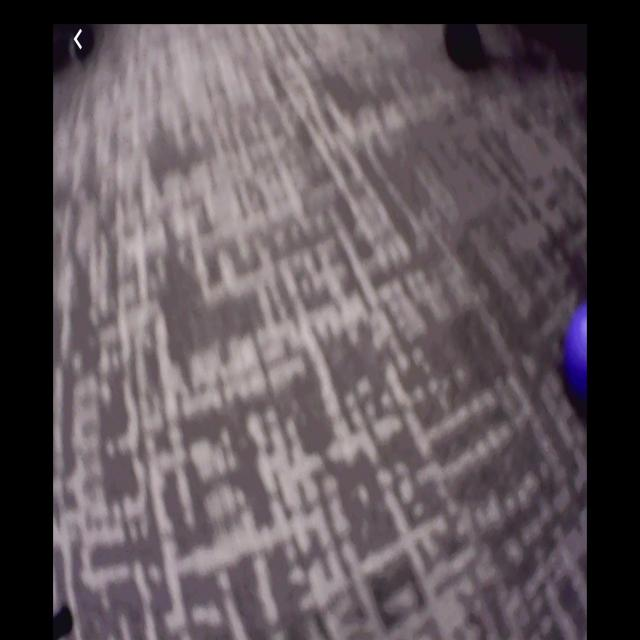ball: (565, 302, 587, 394)
